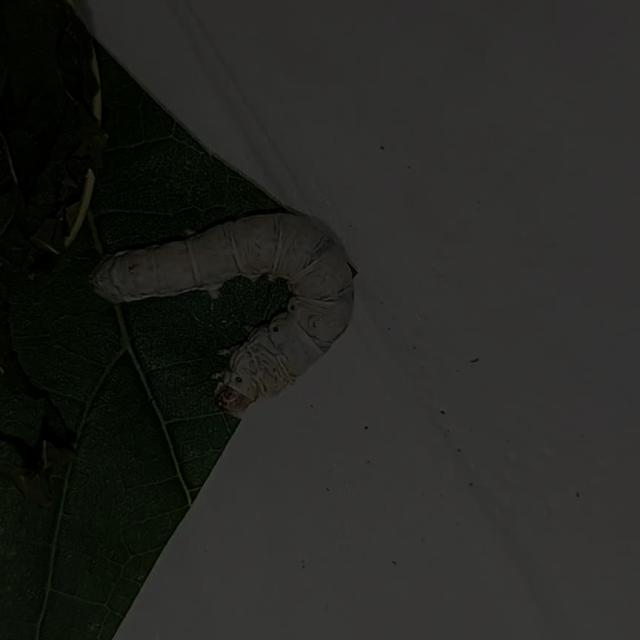Healthy: (70, 182, 373, 442)
